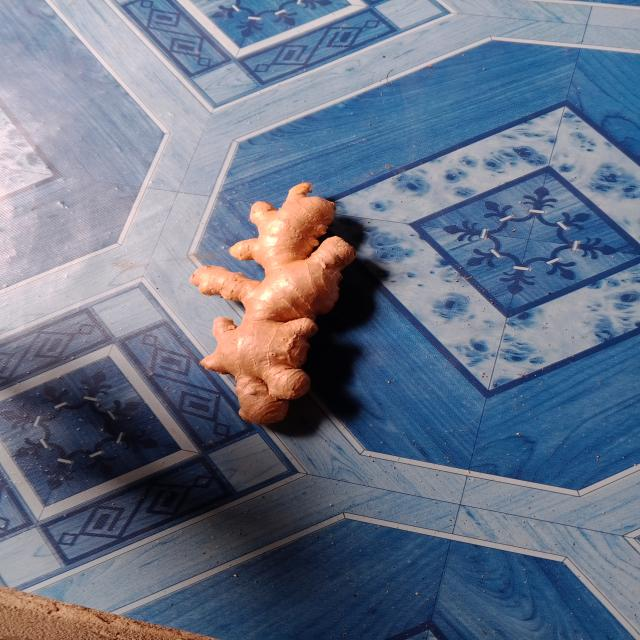ginger: (191, 177, 349, 422)
